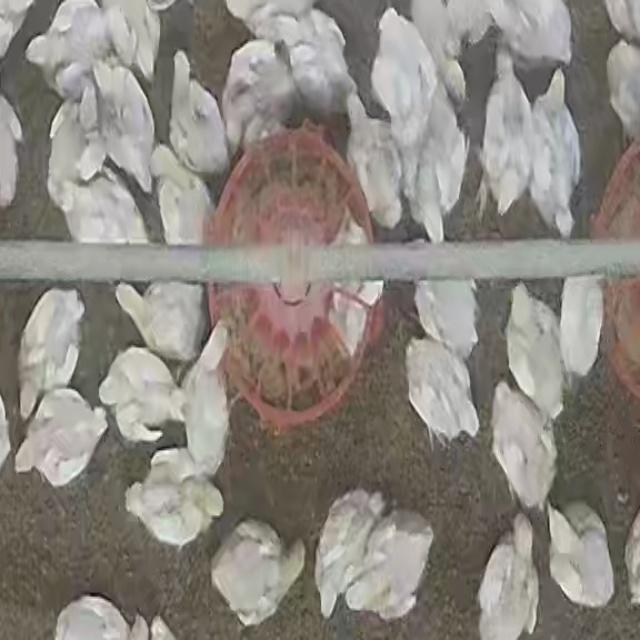chicken: (212, 518, 310, 627), (125, 449, 222, 549), (13, 386, 108, 488), (346, 509, 434, 619), (315, 489, 384, 618), (17, 288, 84, 417), (411, 76, 465, 236), (490, 383, 554, 515), (165, 52, 231, 178), (344, 91, 402, 234), (504, 284, 564, 422), (478, 55, 528, 214), (98, 347, 185, 438), (114, 281, 205, 367), (532, 69, 579, 235), (371, 8, 433, 133), (99, 60, 158, 187), (409, 339, 480, 444), (222, 46, 293, 151), (279, 12, 355, 109), (547, 502, 615, 609), (476, 520, 537, 638), (184, 335, 232, 476), (28, 0, 101, 89), (408, 0, 469, 104), (58, 173, 143, 246), (154, 153, 217, 249), (492, 0, 574, 68), (412, 278, 480, 359), (44, 99, 89, 214), (558, 274, 604, 382), (106, 2, 165, 79), (328, 282, 382, 366), (55, 594, 147, 640), (223, 0, 316, 42), (605, 39, 640, 142), (0, 94, 23, 207)
